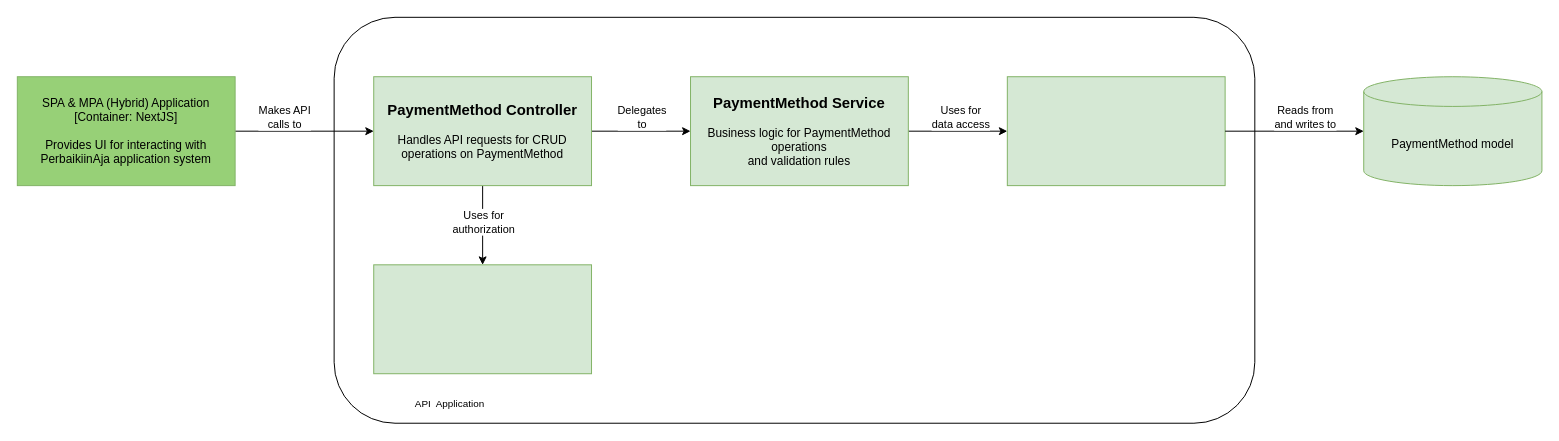
The diagram is 1559 pixels wide and 441 high, and some of its shapes have lost their labels. Each missing label, with the centre of its shape:
Authentication Provides user context and role-based authorization: point (482, 319)
PaymentMethod Repository Data access operations for PaymentMethod entities: point (1115, 131)
